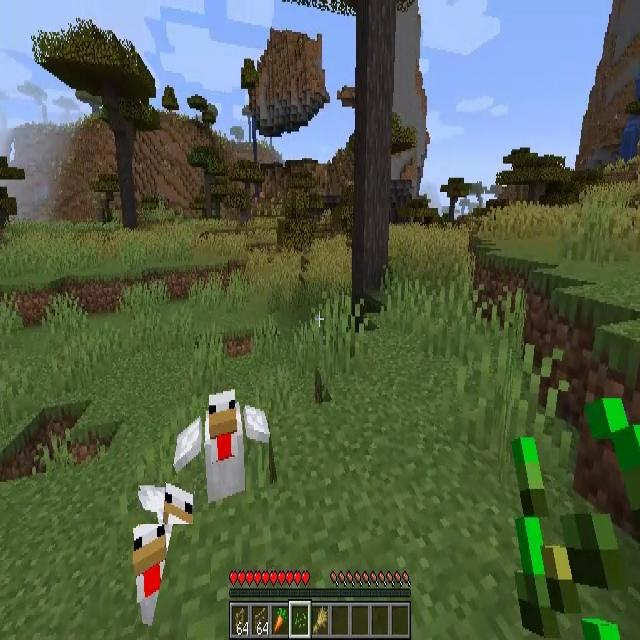duck: (174, 387, 273, 501), (132, 522, 173, 618), (138, 483, 194, 524)
